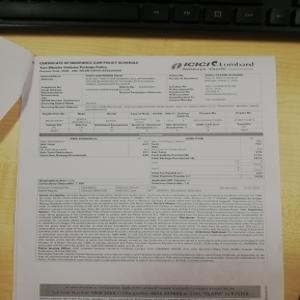image: (166, 56, 260, 73)
table: (40, 133, 264, 184)
text: (38, 193, 265, 262), (40, 74, 257, 106), (38, 110, 263, 132)
